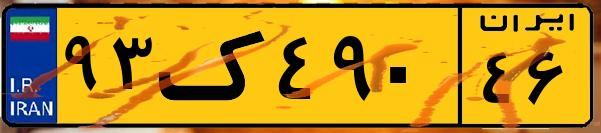0: (385, 28, 445, 110)
3: (110, 28, 158, 98)
4: (270, 28, 330, 110), (475, 38, 525, 113)
6: (525, 38, 570, 115)
9: (330, 28, 385, 110), (57, 26, 110, 100)
ک: (158, 12, 270, 120)
